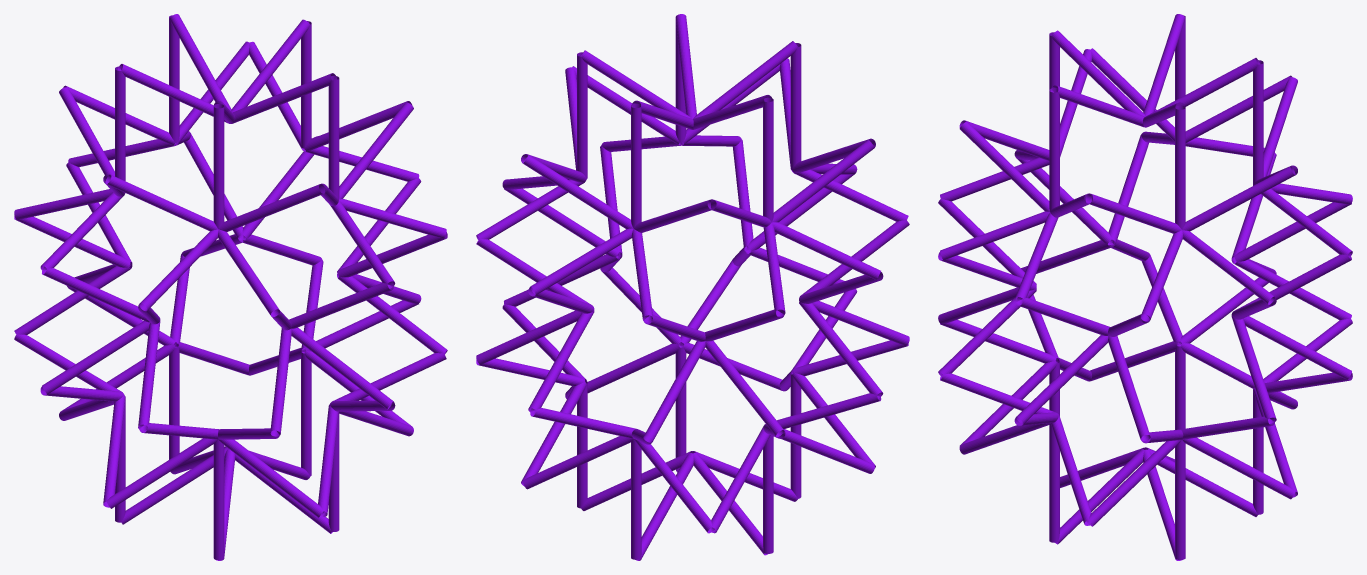
The model's file is trinexus2_2.glb.
3 views of the same model, side by side, from view 1: azimuth 30°, elevation 25°; view 2: azimuth 150°, elevation 25°; view 3: azimuth 270°, elevation 25° (orthographic).
Parts seen in each view (by area): view 1: Mesh_29.002; view 2: Mesh_29.002; view 3: Mesh_29.002.
Boxes of the visible parts, x1=… form: Mesh_29.002: x1=14, y1=14, x2=447, y2=560; Mesh_29.002: x1=476, y1=14, x2=909, y2=560; Mesh_29.002: x1=938, y1=14, x2=1352, y2=560.
Size of the model in its own units: 4.92 by 5.73 by 4.7.
